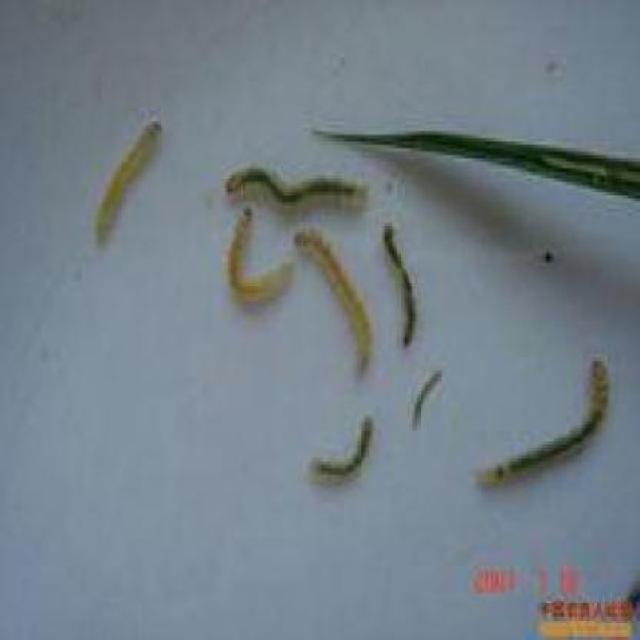leaf-folder: (475, 354, 613, 508), (276, 221, 386, 387), (214, 135, 383, 234), (198, 195, 294, 318), (88, 111, 168, 258), (376, 205, 426, 360), (305, 407, 384, 501), (401, 363, 452, 439)
